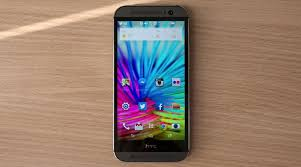htc: (111, 2, 191, 163)
